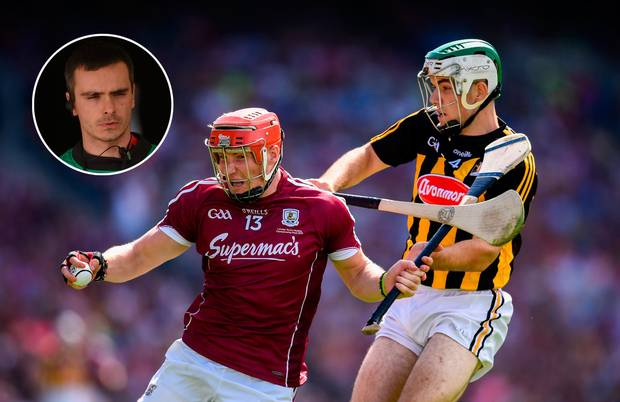hurley: (354, 124, 531, 325), (312, 179, 528, 249)
